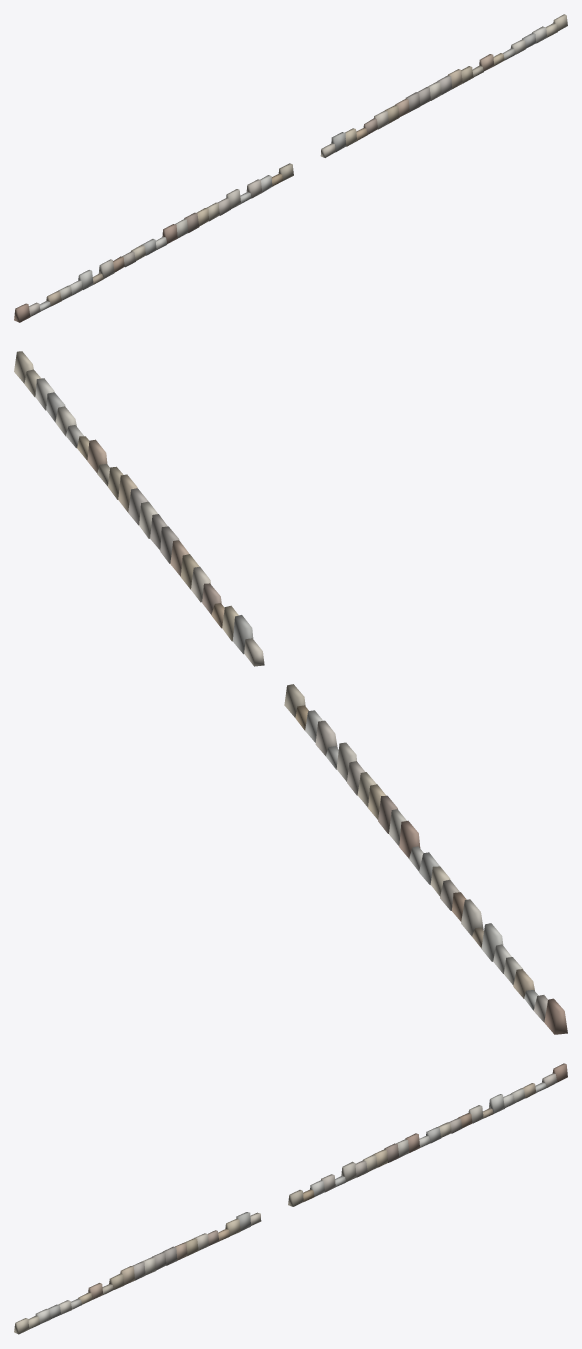
The model's file is farm_25_16_far.glb.
The picture shows the model from 3 angles, top to bottom: view 1: azimuth 90°, elevation 25°; view 2: azimuth 150°, elevation 25°; view 3: azimuth 270°, elevation 25°; orthographic projection. The views are drawn at different scales.
Visible parts, largest first — view 1: geometry_0; view 2: geometry_0; view 3: geometry_0.
Part boxes in pixels (x1,y1,x2,y2): geometry_0: (14,14,567,322); geometry_0: (14,351,567,1034); geometry_0: (14,1063,567,1334).
Bounding box in the file's own units: 63.63 × 3.24 × 53.43.
